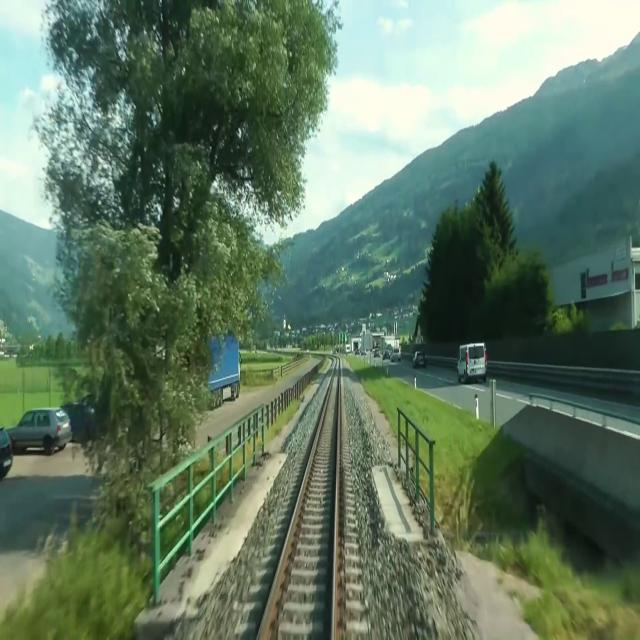rail-track: (265, 367, 337, 639)
